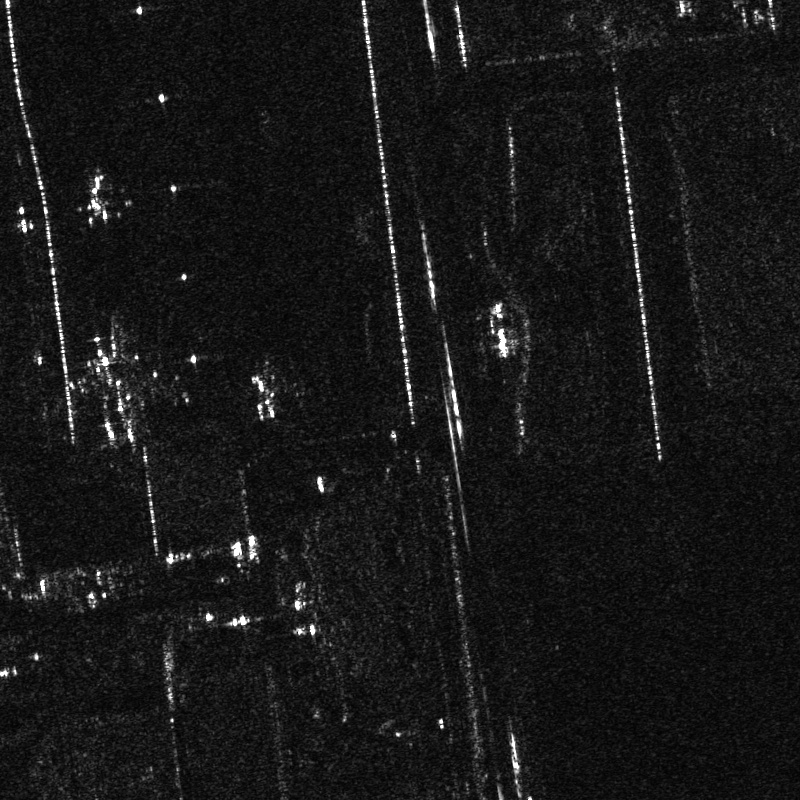A220: (242, 374, 286, 424)
other: (68, 329, 161, 440), (68, 172, 131, 229)
